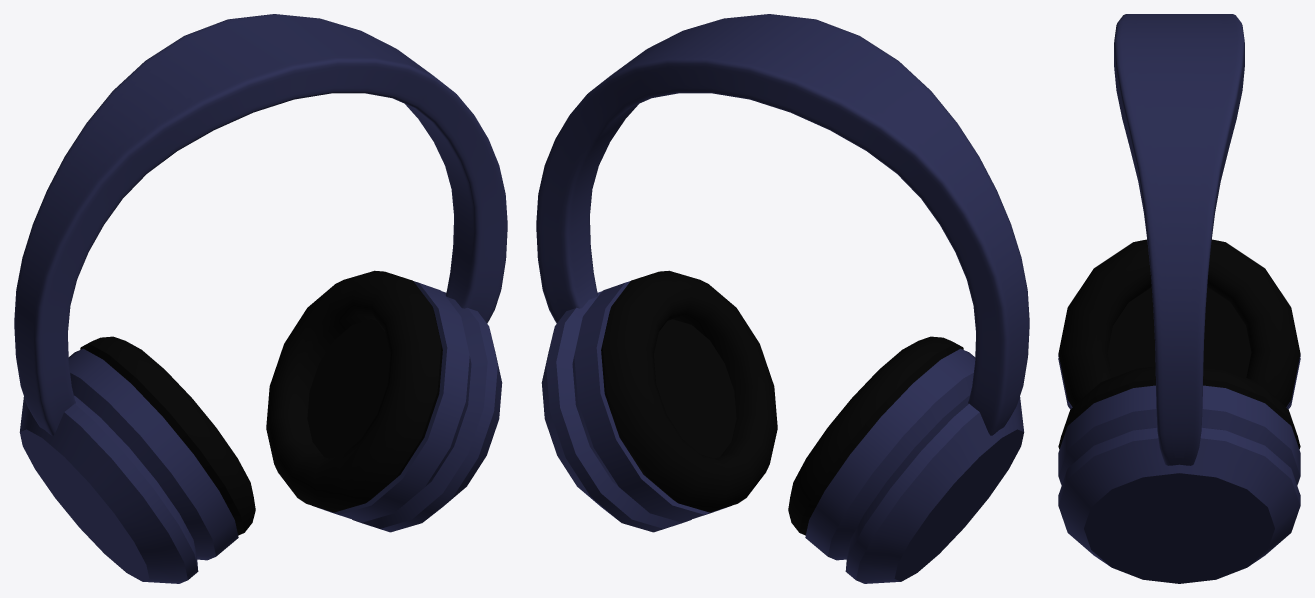
The model's file is Naushniki.fbx.
3 renders of one model, left to right at view 1: azimuth 30°, elevation 25°; view 2: azimuth 150°, elevation 25°; view 3: azimuth 270°, elevation 25°, orthographic. The views are drawn at different scales.
Visible parts, largest first — view 1: Plane.003; view 2: Plane.003; view 3: Plane.003.
Part boxes in pixels (box(x1,y1,x2,y2)): Plane.003: box(14, 14, 507, 583); Plane.003: box(536, 14, 1029, 583); Plane.003: box(1058, 14, 1300, 583).
Size of the model in its own units: 215 by 220 by 98.5.
